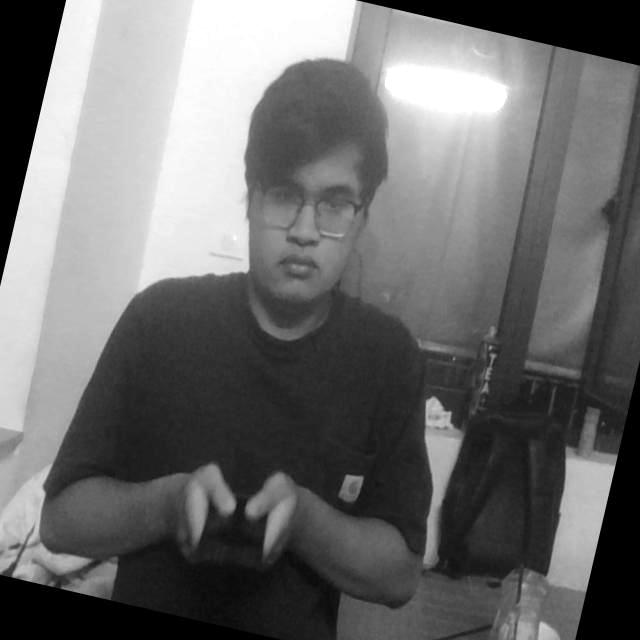phone: (180, 456, 287, 596)
